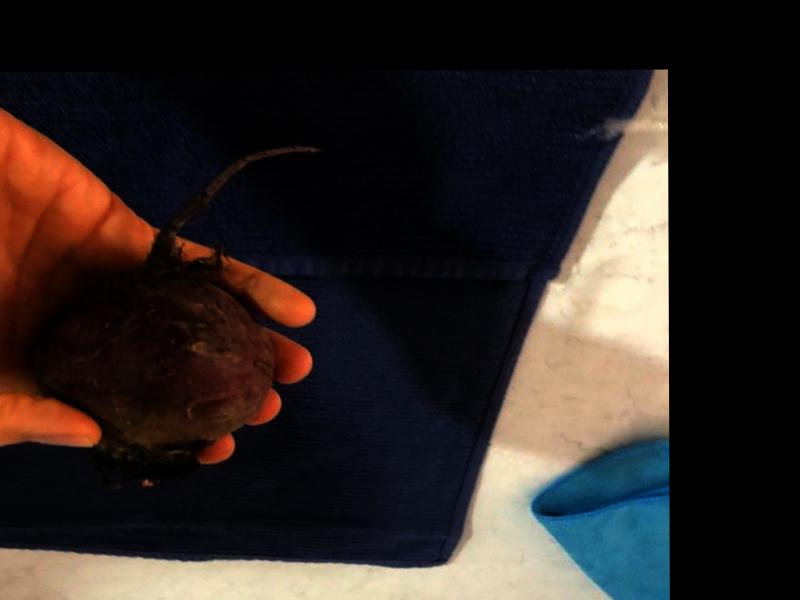Beet: (29, 145, 327, 487)
